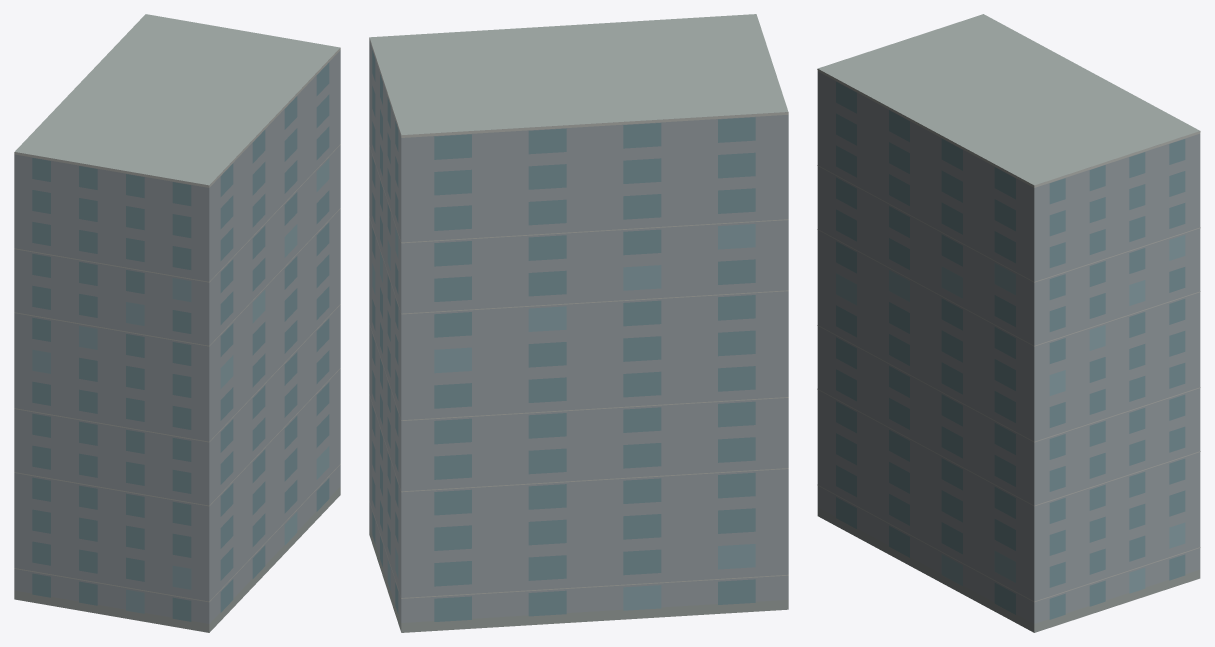
Rendered from survey-upis-32785852.glb.
3 renders of one model, left to right at view 1: azimuth 30°, elevation 25°; view 2: azimuth 150°, elevation 25°; view 3: azimuth 270°, elevation 25°, orthographic. The views are drawn at different scales.
Visible parts, largest first — view 1: survey-upis-32785852.tmp; view 2: survey-upis-32785852.tmp; view 3: survey-upis-32785852.tmp.
Boxes of the visible parts, <box> form: survey-upis-32785852.tmp: <box>14,14,340,632</box>; survey-upis-32785852.tmp: <box>369,14,788,632</box>; survey-upis-32785852.tmp: <box>817,14,1200,632</box>.
Bounding box in the file's own units: 34.94 × 42.5 × 32.98.
